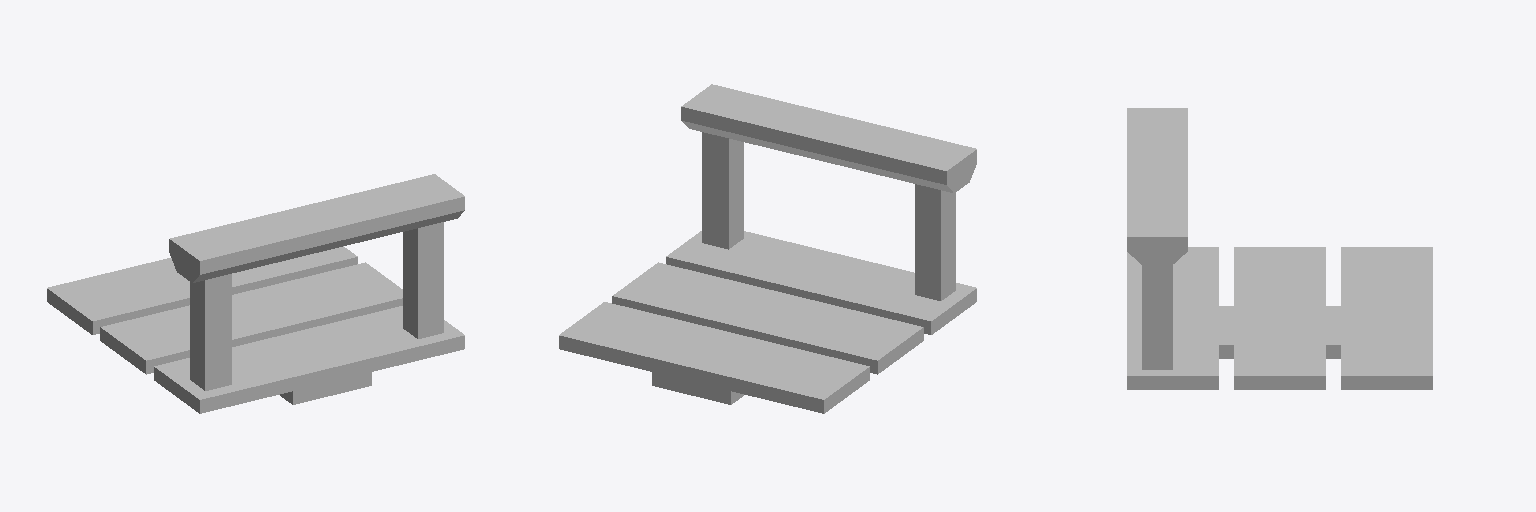
The model's file is scaffold_small_low_railing.obj.
3 views of the same model, side by side, from view 1: azimuth 30°, elevation 25°; view 2: azimuth 150°, elevation 25°; view 3: azimuth 270°, elevation 25° (orthographic).
Visible parts, largest first — view 1: scaffold_small_low_railing_Cube.025; view 2: scaffold_small_low_railing_Cube.025; view 3: scaffold_small_low_railing_Cube.025.
Part boxes in pixels (x1,y1,x2,y2): scaffold_small_low_railing_Cube.025: (47,174,464,413); scaffold_small_low_railing_Cube.025: (559,84,976,413); scaffold_small_low_railing_Cube.025: (1127,108,1432,389).
Size of the model in its own units: 2 by 1.2 by 2.